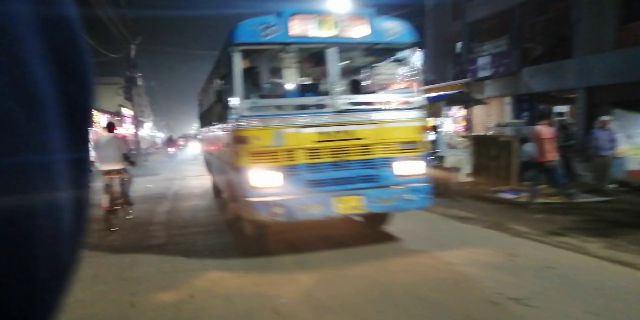Bus: (212, 10, 436, 232)
Cycle: (89, 110, 140, 237)
